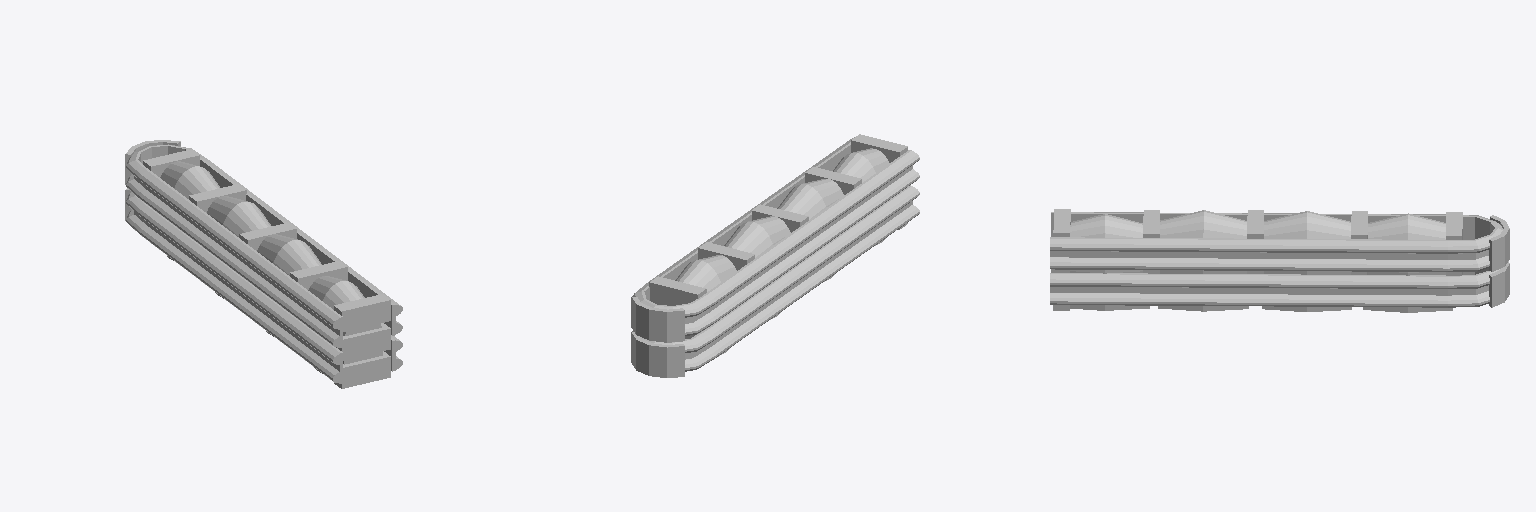
Rendered from Road1_0_21.obj.
The picture shows the model from 3 angles: view 1: azimuth 30°, elevation 25°; view 2: azimuth 150°, elevation 25°; view 3: azimuth 270°, elevation 25°; orthographic projection.
Parts seen in each view (by area): view 1: GSDAtten_Static(Clone); view 2: GSDAtten_Static(Clone); view 3: GSDAtten_Static(Clone).
Part boxes in pixels (bbox=[...]): GSDAtten_Static(Clone): bbox=[125, 140, 402, 388]; GSDAtten_Static(Clone): bbox=[631, 134, 919, 377]; GSDAtten_Static(Clone): bbox=[1050, 209, 1509, 312].
Size of the model in its own units: 0.7533 by 0.8398 by 3.98.